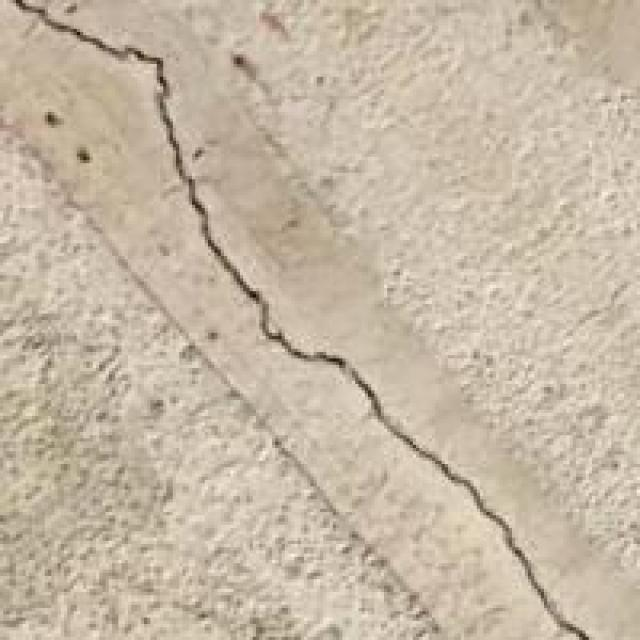Crack: (13, 0, 595, 637)
